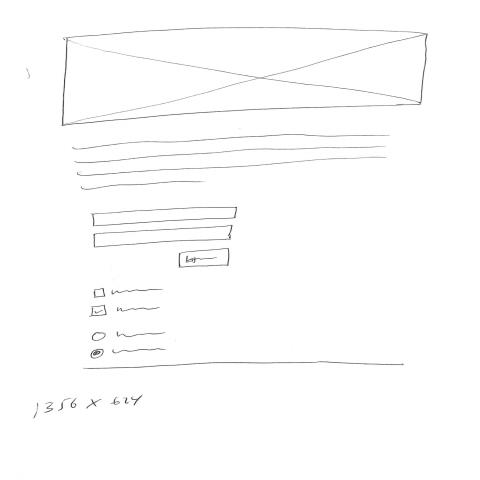Button: (179, 248, 231, 269)
Image: (62, 29, 431, 128)
Paragraph: (72, 133, 391, 193)
Textbox: (93, 228, 233, 248), (91, 207, 237, 226)
